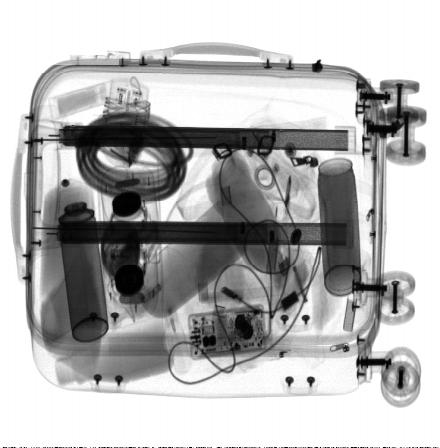Sprayer: (56, 181, 109, 343)
